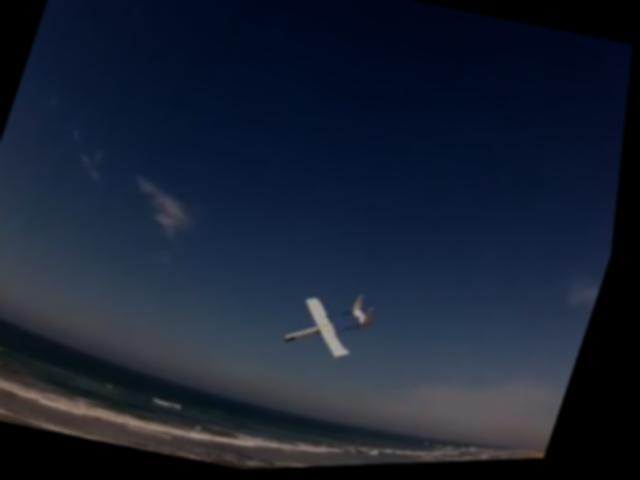uav: (281, 277, 400, 378)
